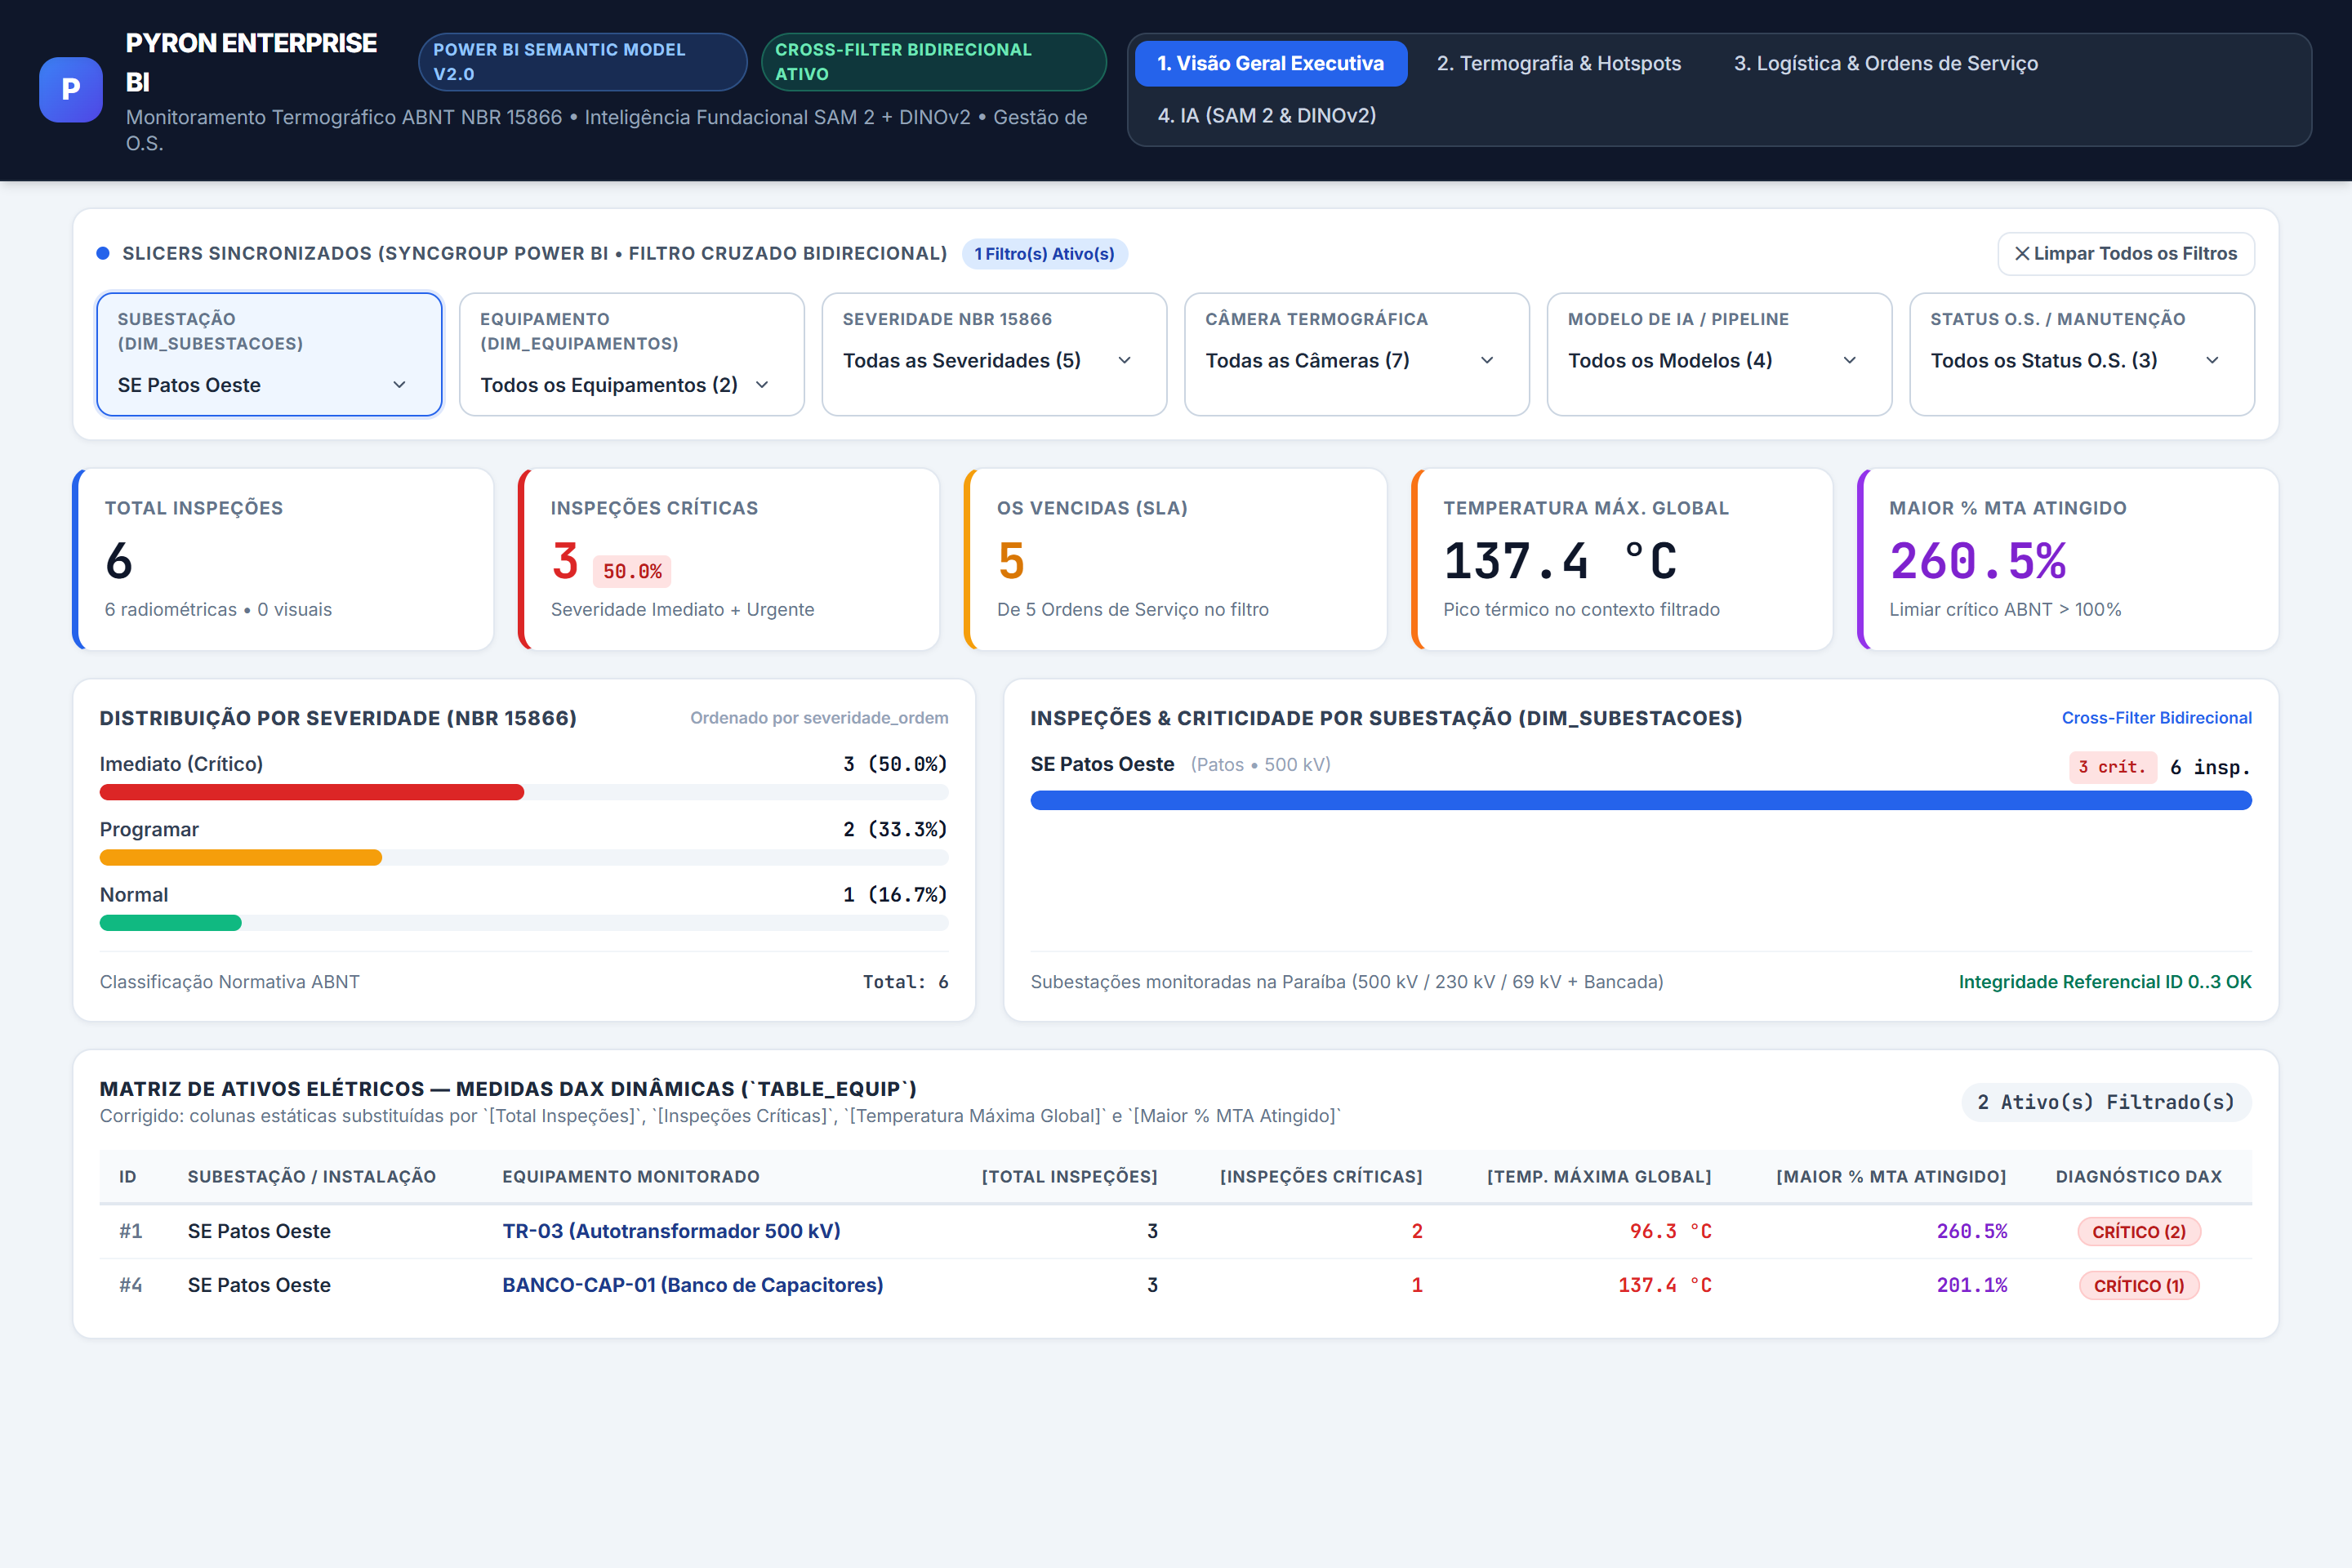

This screenshot's page, from the dashboard's own definition file:
{"tool":"powerbi","page":{"name":"1. Visão Geral Executiva","canvas":[1280,720],"ordinal":0},"visuals":[{"type":"slicer","fields":{"Values":["Dim_Subestacoes.instalacao"]},"box":[20,15,290,75],"z":100},{"type":"slicer","fields":{"Values":["Dim_Equipamentos.equipamento"]},"box":[330,15,310,75],"z":200},{"type":"slicer","fields":{"Values":["Fato_Inspecoes.severidade"]},"box":[660,15,290,75],"z":300},{"type":"slicer","fields":{"Values":["Fato_Inspecoes.camera"]},"box":[970,15,290,75],"z":400},{"type":"card","fields":{"Values":["_Medidas.Total Inspeções"]},"box":[20,105,235,110],"z":500},{"type":"card","fields":{"Values":["_Medidas.Inspeções Críticas"]},"box":[270,105,235,110],"z":600},{"type":"card","fields":{"Values":["_Medidas.OS Vencidas"]},"box":[520,105,235,110],"z":700},{"type":"card","fields":{"Values":["_Medidas.Temperatura Máxima Global"]},"box":[770,105,235,110],"z":800},{"type":"card","fields":{"Values":["_Medidas.Maior % MTA Atingido"]},"box":[1020,105,240,110],"z":900},{"type":"donutChart","fields":{"Category":["Fato_Inspecoes.severidade"],"Y":["_Medidas.Total Inspeções"]},"box":[20,230,420,250],"z":1000},{"type":"clusteredColumnChart","fields":{"Category":["Dim_Subestacoes.instalacao"],"Y":["_Medidas.Total Inspeções"]},"box":[460,230,800,250],"z":1100},{"type":"tableEx","fields":{"Values":["Dim_Equipamentos.equipamento_id","Dim_Equipamentos.instalacao","Dim_Equipamentos.equipamento","_Medidas.Total Inspeções","_Medidas.Inspeções Críticas","_Medidas.Temperatura Máxima Global","_Medidas.Maior % MTA Atingido"]},"box":[20,495,1240,205],"z":1200}]}

Visuals, with their boxes on the page's 1280x720 design canvas (x1, y1, x2, y2). These are canvas units, not pixel positions in the 2352x1568 screenshot, which may show the page scaled, cropped or inside an application window:
slicer - Dim_Subestacoes.instalacao: box(20, 15, 310, 90)
slicer - Dim_Equipamentos.equipamento: box(330, 15, 640, 90)
slicer - Fato_Inspecoes.severidade: box(660, 15, 950, 90)
slicer - Fato_Inspecoes.camera: box(970, 15, 1260, 90)
card - _Medidas.Total Inspeções: box(20, 105, 255, 215)
card - _Medidas.Inspeções Críticas: box(270, 105, 505, 215)
card - _Medidas.OS Vencidas: box(520, 105, 755, 215)
card - _Medidas.Temperatura Máxima Global: box(770, 105, 1005, 215)
card - _Medidas.Maior % MTA Atingido: box(1020, 105, 1260, 215)
donutChart - Fato_Inspecoes.severidade x _Medidas.Total Inspeções: box(20, 230, 440, 480)
clusteredColumnChart - Dim_Subestacoes.instalacao x _Medidas.Total Inspeções: box(460, 230, 1260, 480)
tableEx - Dim_Equipamentos.equipamento_id x Dim_Equipamentos.instalacao: box(20, 495, 1260, 700)
